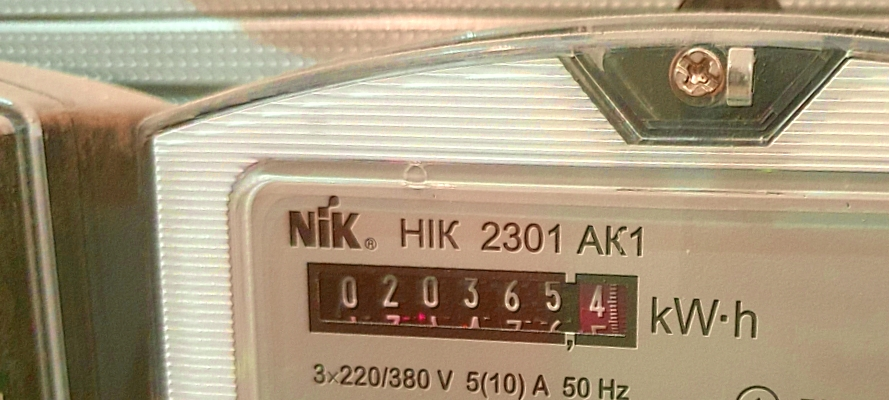0: (420, 273, 442, 310), (338, 274, 361, 309)
2: (377, 272, 403, 309)
3: (461, 273, 482, 310)
4: (587, 282, 609, 318)
5: (542, 279, 564, 313)
6: (501, 276, 523, 314)
screen: (285, 236, 661, 370)
